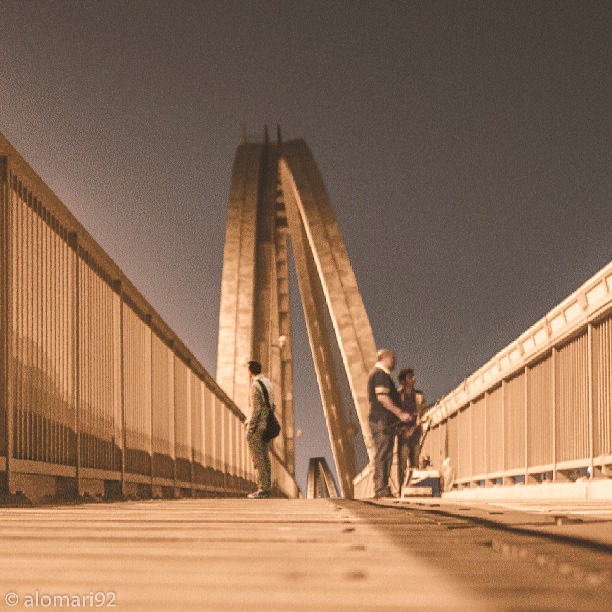copymove: (304, 451, 340, 506)
removal: (437, 316, 477, 406)
spliced: (245, 361, 285, 499)
